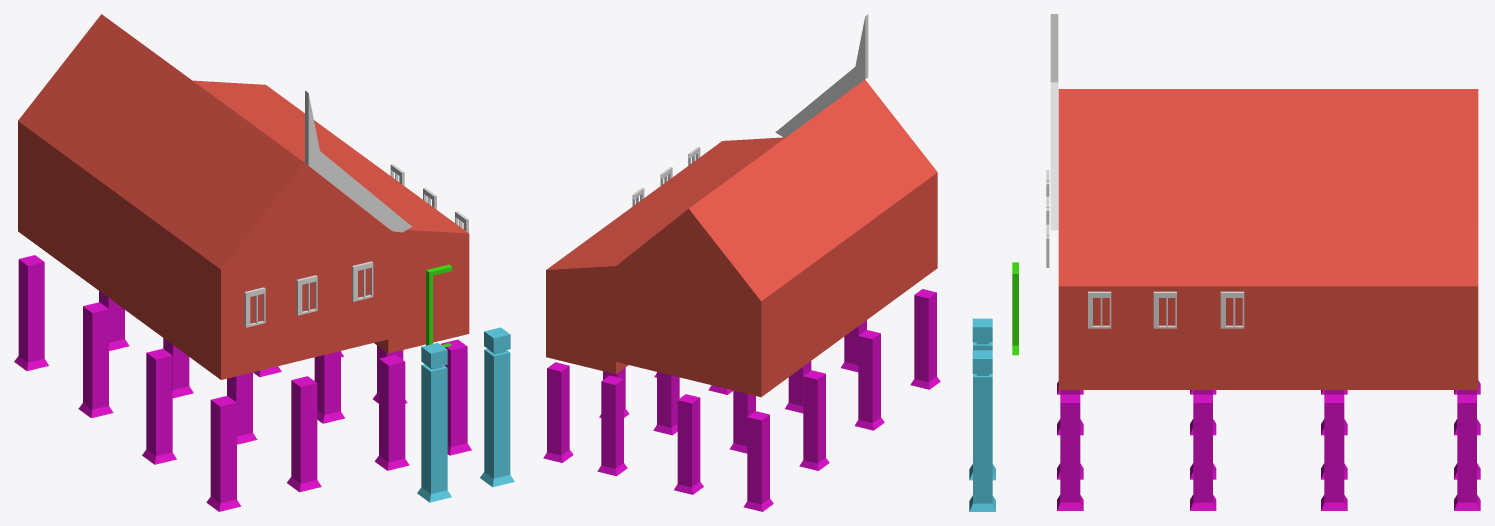
The model's file is rumah.glb.
The picture shows the model from 3 angles, left to right: view 1: azimuth 30°, elevation 25°; view 2: azimuth 150°, elevation 25°; view 3: azimuth 270°, elevation 25°; orthographic projection. The views are drawn at different scales.
Visible parts, largest first — view 1: Cube, Cube.001, Cube.002, Plane.007, Plane.001, Plane.003, Plane, Plane.002; view 2: Cube, Cube.001, Plane.007; view 3: Cube, Cube.001, Cube.002, Plane.007, Plane.001, Plane.006.
Boxes of the visible parts, x1,y1,x2,y2 form: Cube: (18, 14, 469, 379); Cube.001: (14, 255, 471, 511); Cube.002: (417, 327, 514, 502); Plane.007: (305, 90, 411, 232); Plane.001: (426, 264, 452, 347); Plane.003: (352, 261, 373, 301); Plane: (244, 287, 265, 327); Plane.002: (296, 275, 317, 315); Cube: (546, 79, 937, 397); Cube.001: (543, 289, 940, 511); Plane.007: (775, 14, 868, 137); Cube: (1058, 89, 1478, 389); Cube.001: (1057, 380, 1480, 510); Cube.002: (969, 318, 995, 511); Plane.007: (1050, 14, 1058, 230); Plane.001: (1012, 262, 1018, 355); Plane.006: (1220, 291, 1244, 328).
Size of the model in its own units: 10.15 by 14.68 by 16.43.
